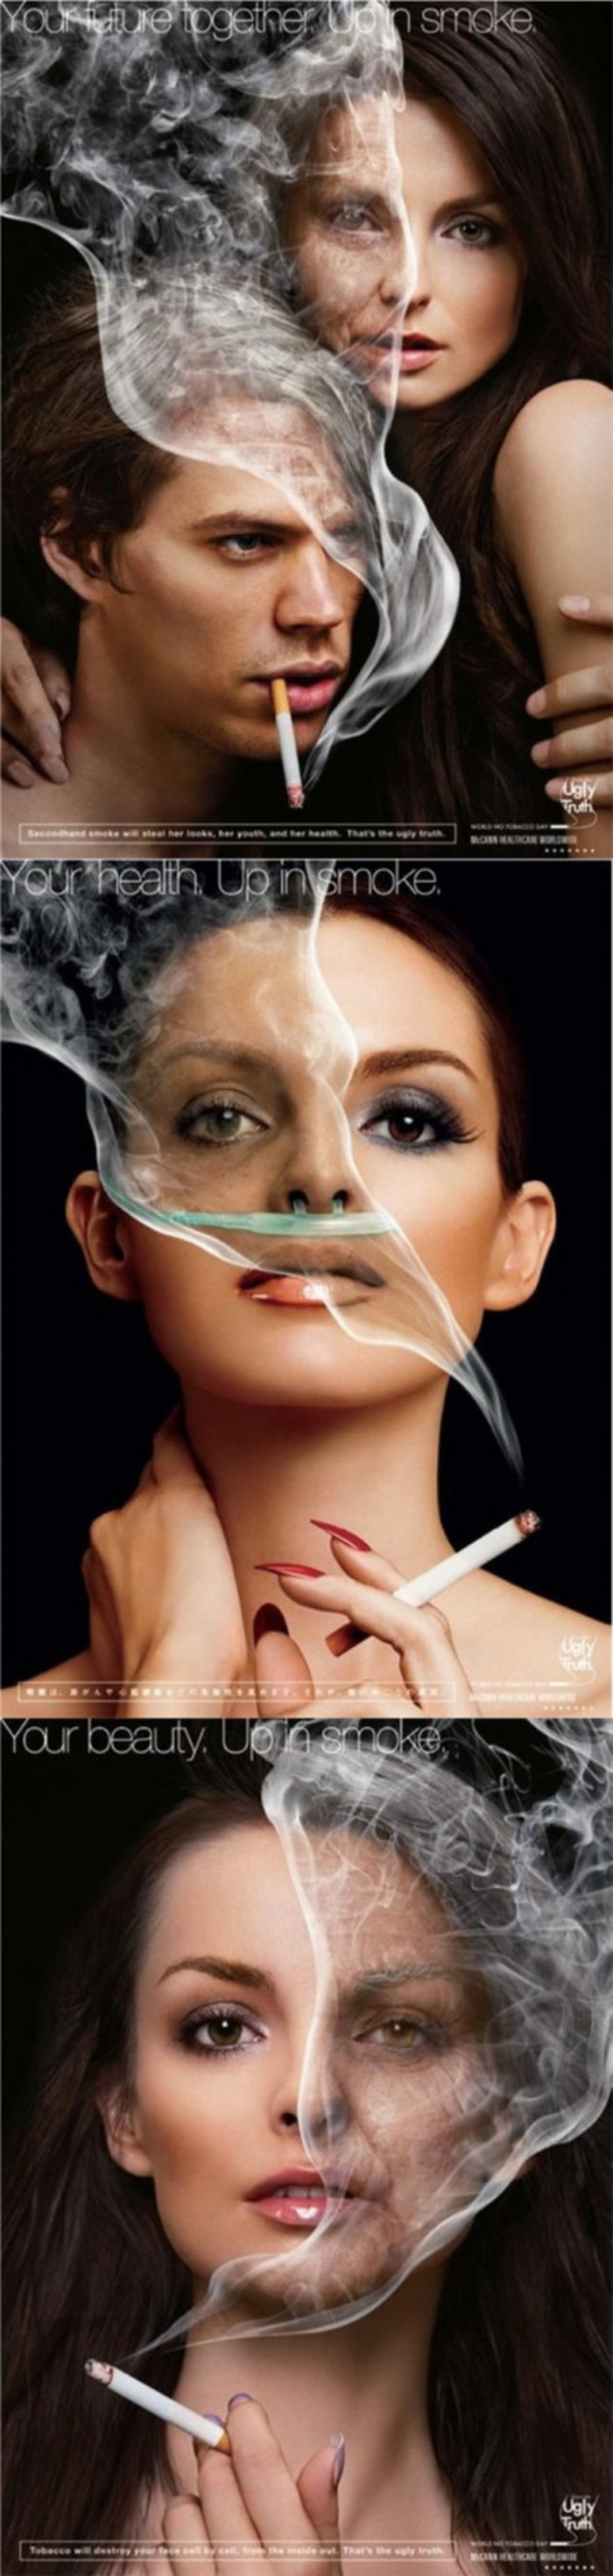smoking: (314, 1513, 539, 1661), (87, 2348, 235, 2453), (268, 678, 317, 821)
